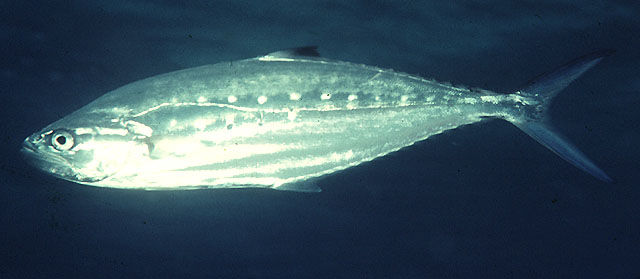fish: (19, 45, 619, 192)
